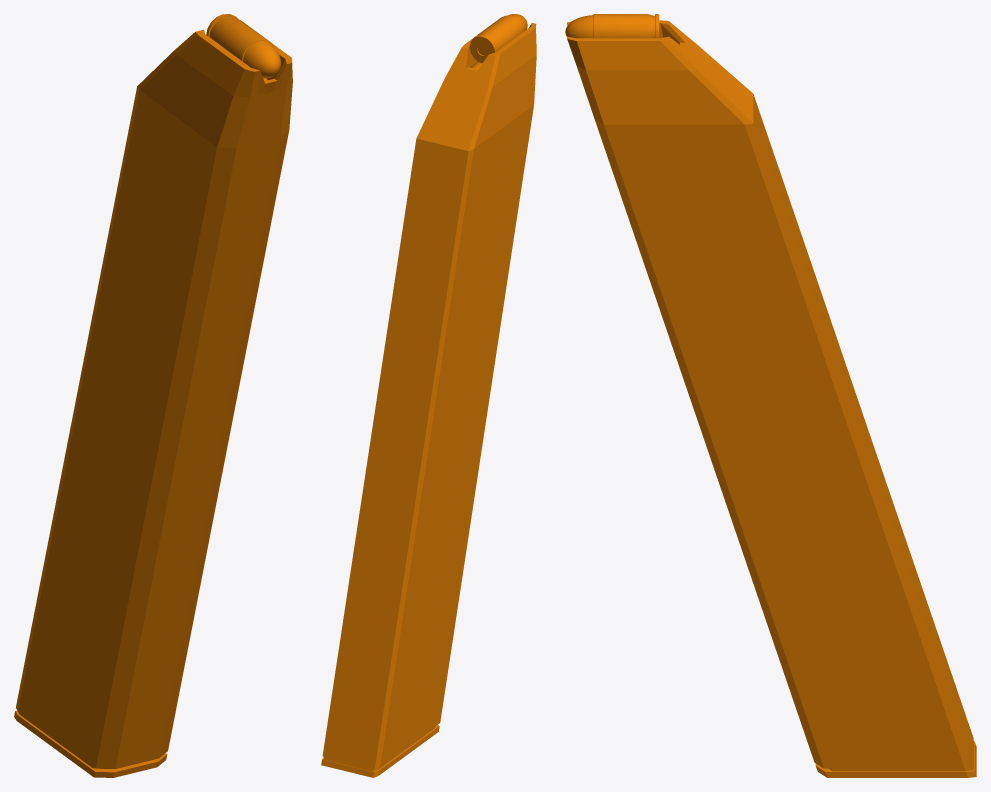
Rendered from smg-a-mag-full.fbx.
The picture shows the model from 3 angles, left to right: view 1: azimuth 30°, elevation 25°; view 2: azimuth 150°, elevation 25°; view 3: azimuth 270°, elevation 25°; orthographic projection. The views are drawn at different scales.
Parts seen in each view (by area): view 1: SMG A Magazine, SMG A Mag Bullet 1; view 2: SMG A Magazine, SMG A Mag Bullet 1; view 3: SMG A Magazine, SMG A Mag Bullet 1.
Part boxes in pixels (x1,y1,x2,y2): SMG A Magazine: (14, 29, 292, 777); SMG A Mag Bullet 1: (206, 14, 281, 78); SMG A Magazine: (321, 23, 536, 777); SMG A Mag Bullet 1: (469, 14, 527, 63); SMG A Magazine: (567, 20, 976, 777); SMG A Mag Bullet 1: (565, 14, 659, 38).
Size of the model in its own units: 2.36 by 25.65 by 12.82.
